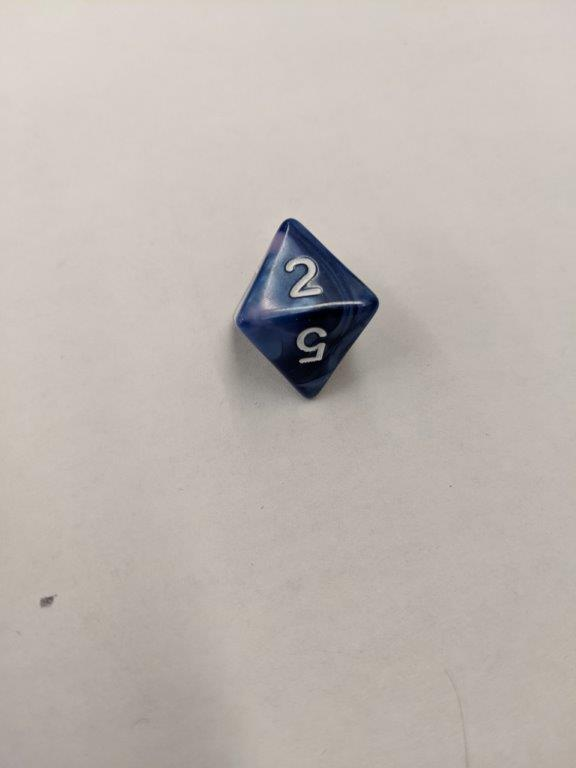d8-2: (230, 216, 378, 402)
